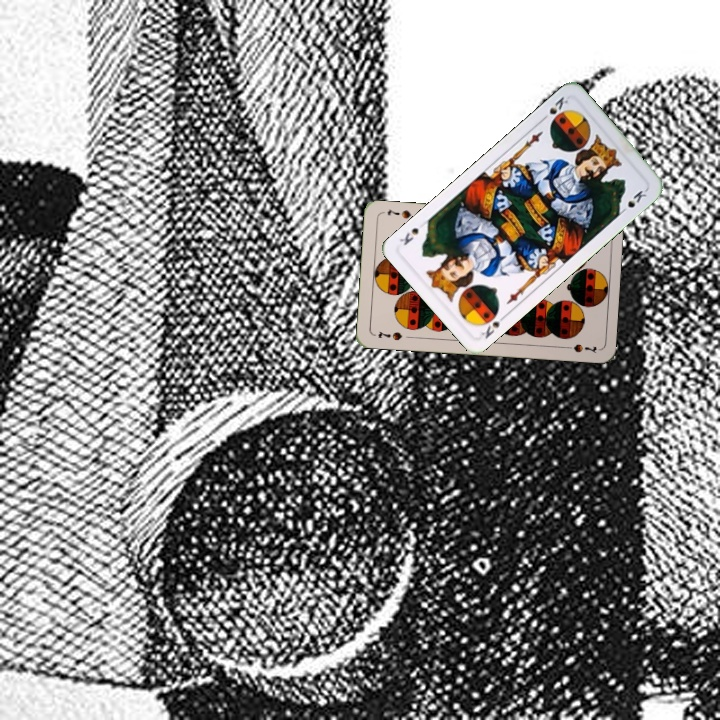S7: (374, 327, 405, 343)
SK: (537, 92, 571, 124), (477, 310, 510, 341)
